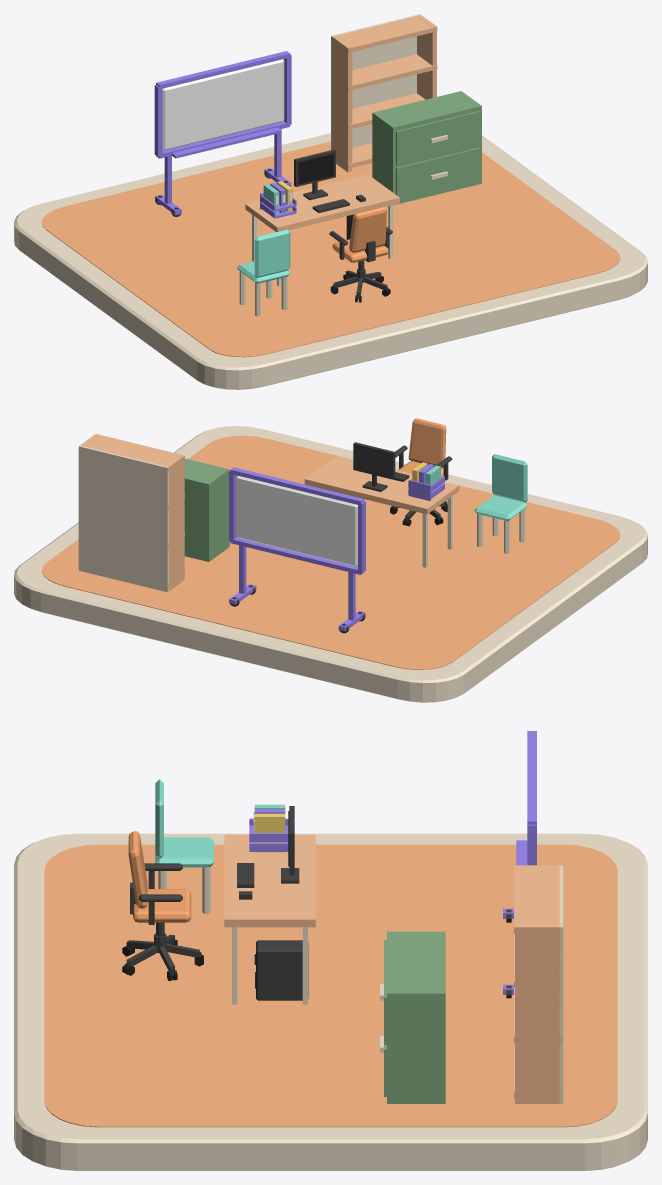
The picture shows the model from 3 angles, top to bottom: view 1: azimuth 30°, elevation 25°; view 2: azimuth 150°, elevation 25°; view 3: azimuth 270°, elevation 25°; orthographic projection. The views are drawn at different scales.
Parts seen in each view (by area): view 1: COM-02 Floor Surface, COM-01 Rounded Base Direct, Cabinet, Writing surface, Top, Back, COM-04_Chair_blender_direct, Side, Shelf.003, Shelf.002, Backrest, Frame (+7 smaller); view 2: COM-02 Floor Surface, COM-01 Rounded Base Direct, Back, Writing surface, Cabinet, Top, COM-04_Chair_blender_direct, Side, Backrest, Frame, Shelf.003, Frame rail.001 (+4 smaller); view 3: COM-02 Floor Surface, COM-01 Rounded Base Direct, Cabinet, Top, Side.001, COM-04_Chair_blender_direct, Shelf.003, Tower, Seat, Back, Frame rail.001, Frame (+2 smaller).
Part boxes in pixels (x1,y1,x2,y2): COM-02 Floor Surface: (41, 141, 620, 357); COM-01 Rounded Base Direct: (14, 133, 647, 389); Cabinet: (372, 91, 481, 205); Writing surface: (162, 59, 284, 150); Top: (245, 174, 399, 286); Back: (331, 14, 420, 150); COM-04_Chair_blender_direct: (329, 206, 392, 302); Side: (332, 35, 352, 172); Shelf.003: (332, 16, 437, 52); Shelf.002: (332, 54, 437, 90); Backrest: (254, 229, 290, 277); Frame: (294, 149, 335, 200); COM-02 Floor Surface: (41, 435, 620, 669); COM-01 Rounded Base Direct: (14, 426, 647, 702); Back: (78, 445, 168, 592); Writing surface: (236, 475, 357, 566); Cabinet: (184, 458, 229, 561); Top: (304, 455, 459, 567); COM-04_Chair_blender_direct: (390, 418, 452, 526); Side: (164, 454, 184, 590); Backrest: (492, 454, 527, 502); Frame: (353, 442, 395, 491); Shelf.003: (85, 434, 184, 471); Frame rail.001: (230, 467, 364, 505); COM-02 Floor Surface: (44, 844, 617, 1127); COM-01 Rounded Base Direct: (14, 833, 647, 1170); Cabinet: (380, 931, 445, 1103); Top: (224, 834, 315, 1004); Side.001: (515, 924, 561, 1103); COM-04_Chair_blender_direct: (122, 831, 203, 980); Shelf.003: (514, 865, 562, 933); Tower: (256, 940, 308, 1000); Seat: (155, 837, 213, 867); Back: (559, 865, 563, 1103); Frame rail.001: (527, 731, 536, 824); Frame: (281, 806, 299, 883).
Size of the model in its own units: 6 by 1.96 by 5.2.
Materials: 1 (1 with a texture image).
